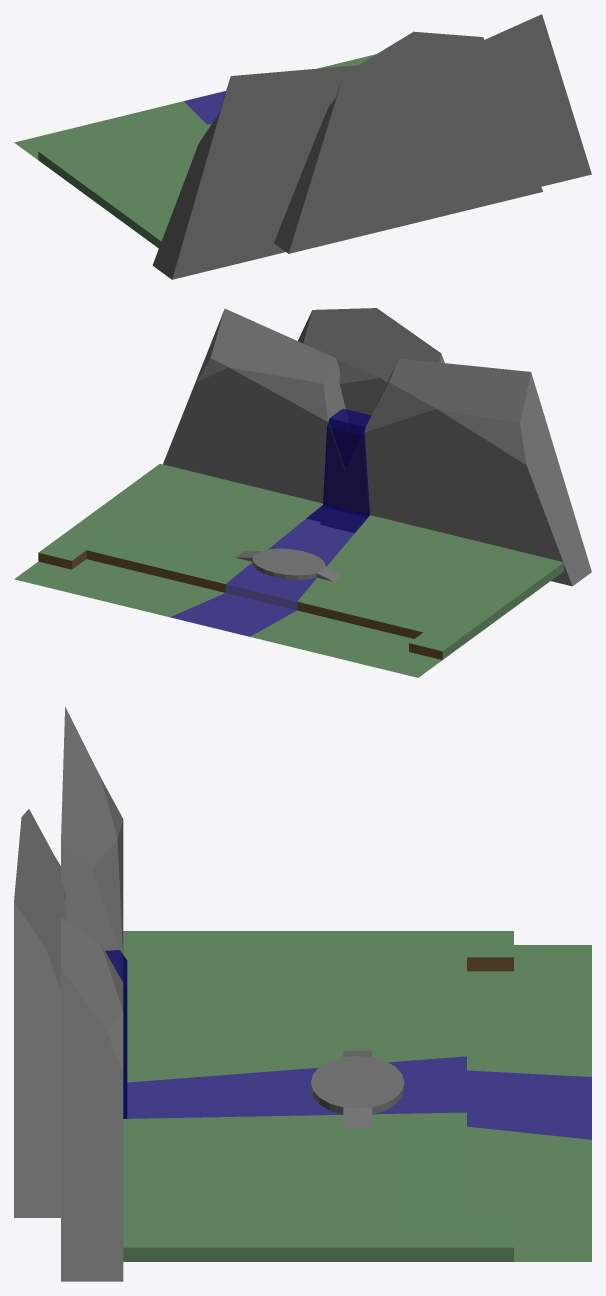
The model's file is Environment 1 (1m).fbx.
3 renders of one model, top to bottom at view 1: azimuth 30°, elevation 25°; view 2: azimuth 150°, elevation 25°; view 3: azimuth 270°, elevation 25°, orthographic. The views are drawn at different scales.
Visible parts, largest first — view 1: Mountain.002, Mountain.001, Ground.001, Mountain, River; view 2: Ground.001, Mountain.001, Mountain, River, Mountain.002, River_Falls, Platform; view 3: Ground.001, Mountain, River, Mountain.002, Mountain.001, Platform, River_Falls.
Part boxes in pixels (x1,y1,x2,y2): Mountain.002: (274,31,542,253); Mountain.001: (152,65,357,279); Ground.001: (14,54,375,248); Mountain: (484,14,591,186); River: (184,91,225,124); Ground.001: (14,464,563,677); Mountain.001: (320,358,591,586); Mountain: (163,308,359,528); River: (170,504,369,636); Mountain.002: (298,308,444,426); River_Falls: (323,408,371,517); Platform: (235,548,342,581); Ground.001: (123,931,591,1261); Mountain: (61,917,123,1281); River: (124,1056,591,1139); Mountain.002: (14,809,66,1217); Mountain.001: (61,706,123,980); Platform: (310,1050,404,1127); River_Falls: (105,950,127,1118).
Size of the model in its own units: 4948 by 2266 by 3700.
